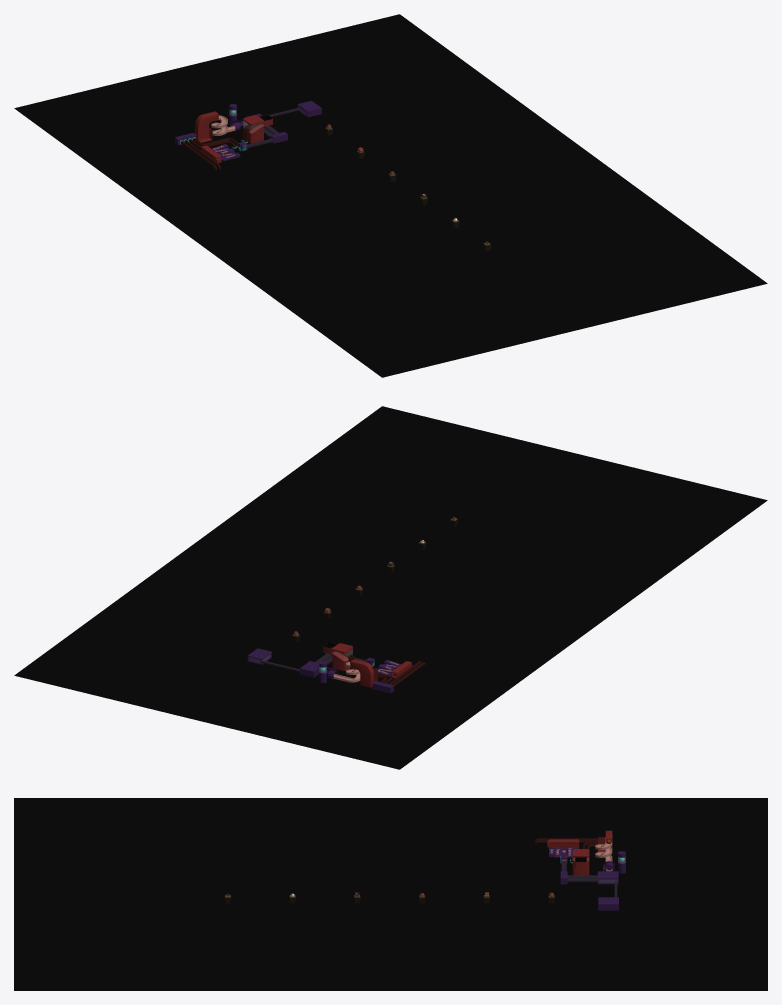
The model's file is factorylowpoly2.glb.
The picture shows the model from 3 angles, top to bottom: view 1: azimuth 30°, elevation 25°; view 2: azimuth 150°, elevation 25°; view 3: azimuth 270°, elevation 25°; orthographic projection. The views are drawn at different scales.
Parts seen in each view (by area): view 1: Plane.001; view 2: Plane.001; view 3: Plane.001.
Boxes of the visible parts, bbox=[...] form: Plane.001: bbox=[14, 14, 767, 377]; Plane.001: bbox=[14, 406, 767, 769]; Plane.001: bbox=[14, 798, 767, 990].
Size of the model in its own units: 137 by 8.45 by 227.
Materials: 23 (1 with a texture image).
